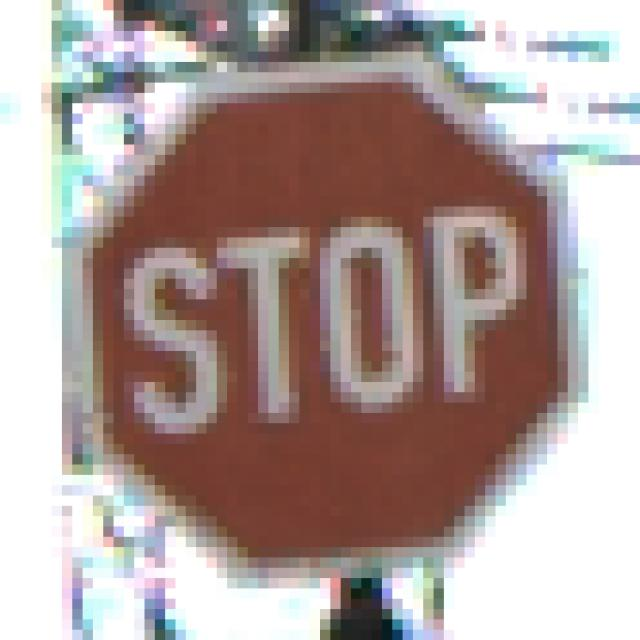STOP: (53, 53, 590, 590)
